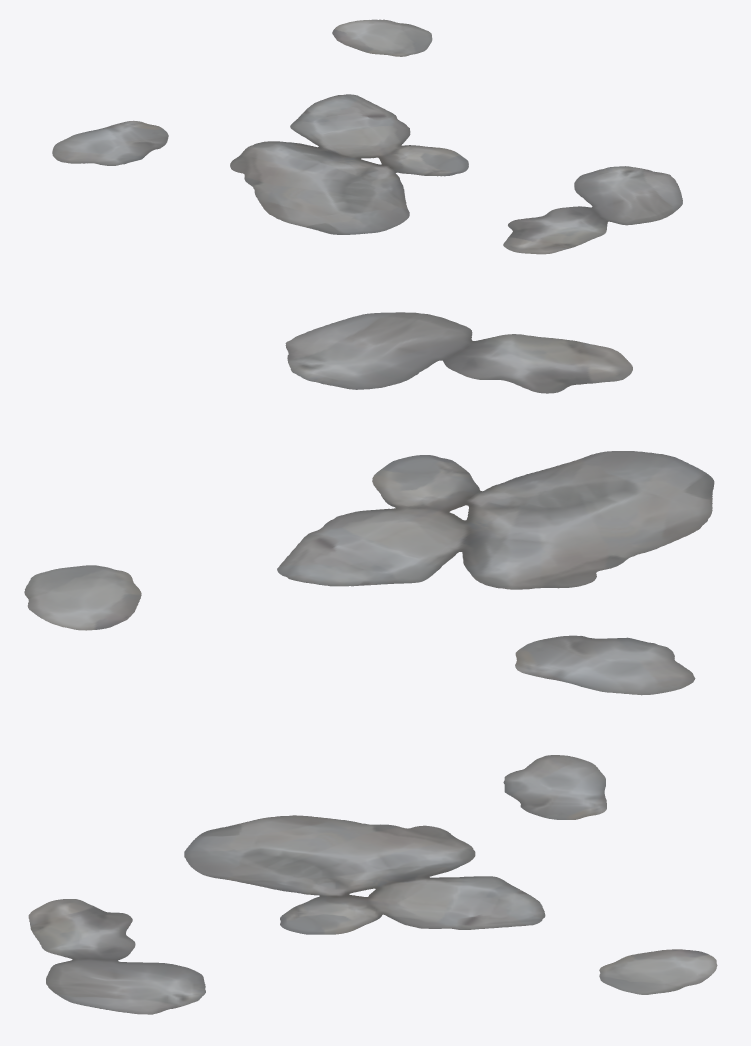
File: SM_PebblesGroup_03.fbx
3 renders of one model, top to bottom at view 1: azimuth 30°, elevation 25°; view 2: azimuth 150°, elevation 25°; view 3: azimuth 270°, elevation 25°, orthographic. The views are drawn at different scales.
Visible parts, largest first — view 1: SM_PebblesGroup_03_LOD1; view 2: SM_PebblesGroup_03_LOD1; view 3: SM_PebblesGroup_03_LOD1.
Part boxes in pixels (x1=…): SM_PebblesGroup_03_LOD1: x1=52, y1=19, x2=682, y2=254; SM_PebblesGroup_03_LOD1: x1=24, y1=312, x2=714, y2=695; SM_PebblesGroup_03_LOD1: x1=28, y1=755, x2=717, y2=1014.
Bounding box in the file's own units: 120 × 2.38e-07 × 127.
